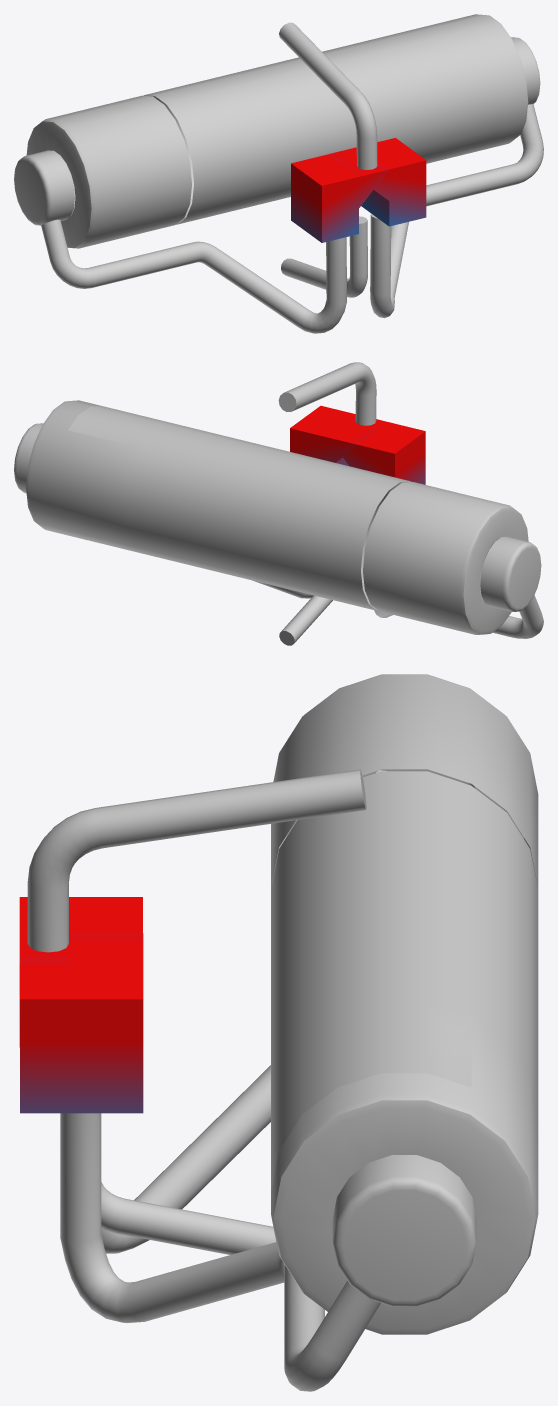
Rendered from Small Pipes.fbx.
3 views of the same model, one above another, from view 1: azimuth 30°, elevation 25°; view 2: azimuth 150°, elevation 25°; view 3: azimuth 270°, elevation 25° (orthographic). The views are drawn at different scales.
Visible parts, largest first — view 1: Inverter Insied Flow, Inverter Sub Flow Left, stitch_result_stitch all.1459_Partical, stitch_result_stitch all.1457_Partical, valve Flow Left, valve Flow Right, Inverter Flow Left, stitch_result_stitch all.1460_Partical, Inverter Sub Flow Right, stitch_result_stitch all.1458_Partical, Inverter Flow Right; view 2: Inverter Insied Flow, Inverter Sub Flow Left, Inverter Sub Flow Right, Inverter Flow Left, valve Flow Left, valve Flow Right, stitch_result_stitch all.1460_Partical, stitch_result_stitch all.1459_Partical, stitch_result_stitch all.1458_Partical, Inverter Flow Right; view 3: Inverter Insied Flow, Inverter Sub Flow Right, Inverter Sub Flow Left, stitch_result_stitch all.1457_Partical, valve Flow Right, Inverter Flow Right, stitch_result_stitch all.1460_Partical, stitch_result_stitch all.1459_Partical, stitch_result_stitch all.1458_Partical, valve Flow Left.
Part boxes in pixels (x1=…): Inverter Insied Flow: x1=144, y1=19, x2=503, y2=224; Inverter Sub Flow Left: x1=26, y1=95, x2=191, y2=248; stitch_result_stitch all.1459_Partical: x1=41, y1=219, x2=346, y2=333; stitch_result_stitch all.1457_Partical: x1=370, y1=104, x2=543, y2=318; valve Flow Left: x1=291, y1=154, x2=389, y2=242; valve Flow Right: x1=328, y1=138, x2=426, y2=226; Inverter Flow Left: x1=14, y1=150, x2=74, y2=225; stitch_result_stitch all.1460_Partical: x1=279, y1=22, x2=377, y2=169; Inverter Sub Flow Right: x1=454, y1=14, x2=528, y2=156; stitch_result_stitch all.1458_Partical: x1=281, y1=216, x2=367, y2=297; Inverter Flow Right: x1=511, y1=37, x2=540, y2=104; Inverter Insied Flow: x1=68, y1=405, x2=411, y2=610; Inverter Sub Flow Left: x1=363, y1=482, x2=528, y2=634; Inverter Sub Flow Right: x1=26, y1=400, x2=147, y2=553; Inverter Flow Left: x1=480, y1=536, x2=541, y2=611; valve Flow Left: x1=343, y1=416, x2=425, y2=484; valve Flow Right: x1=290, y1=405, x2=380, y2=466; stitch_result_stitch all.1460_Partical: x1=278, y1=362, x2=376, y2=425; stitch_result_stitch all.1459_Partical: x1=374, y1=595, x2=543, y2=638; stitch_result_stitch all.1458_Partical: x1=279, y1=595, x2=332, y2=645; Inverter Flow Right: x1=14, y1=423, x2=42, y2=493; Inverter Insied Flow: x1=271, y1=771, x2=538, y2=1190; Inverter Sub Flow Right: x1=271, y1=1001, x2=538, y2=1334; Inverter Sub Flow Left: x1=271, y1=674, x2=538, y2=889; stitch_result_stitch all.1457_Partical: x1=60, y1=1113, x2=380, y2=1391; valve Flow Right: x1=20, y1=933, x2=143, y2=1113; Inverter Flow Right: x1=332, y1=1155, x2=476, y2=1306; stitch_result_stitch all.1460_Partical: x1=27, y1=769, x2=366, y2=952; stitch_result_stitch all.1459_Partical: x1=101, y1=770, x2=386, y2=1253; stitch_result_stitch all.1458_Partical: x1=101, y1=1182, x2=276, y2=1254; valve Flow Left: x1=19, y1=897, x2=142, y2=1047.
Bounding box in the file's own units: 0.1109 × 0.0551 × 0.0504.
